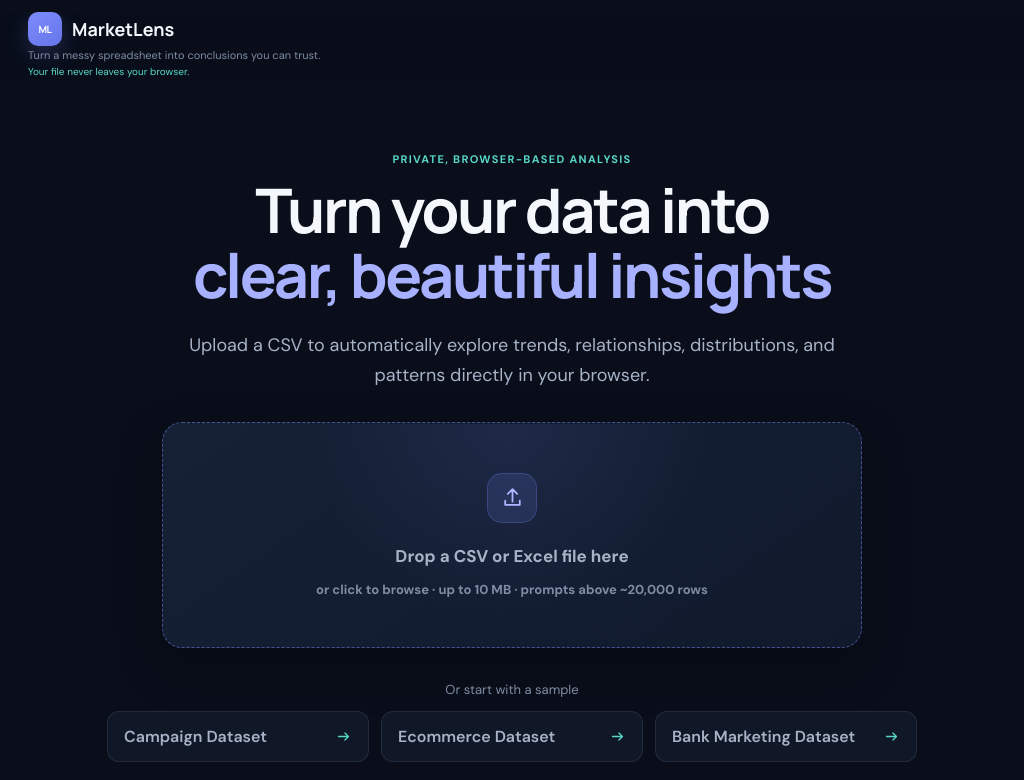
Test: shows the loaded dataset identity and accessible page navigation
Click the button "Ecommerce Dataset". click: (512, 737)
box: [381,711,643,762]
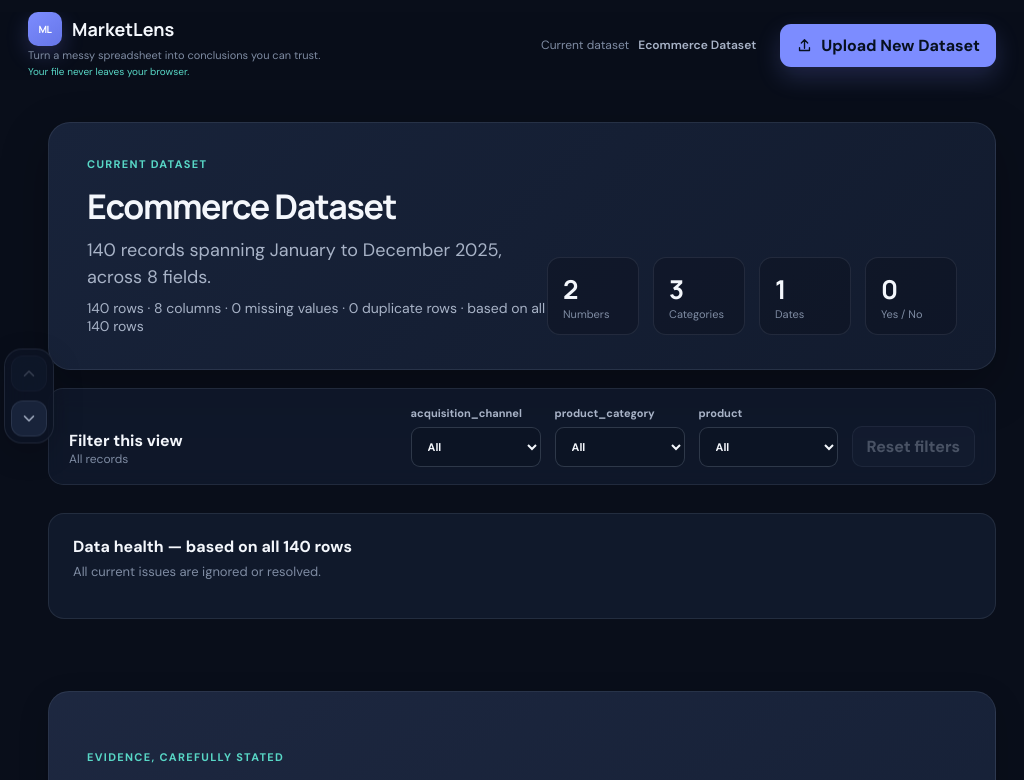
Now the text "Current dataset" is shown 2 times, box [541,37,629,53]; [87,157,207,171]
Now the heading "Ecommerce Dataset" is shown, box [87,183,396,229]
Now the button "Upload New Dataset" is shown
Click the button "Upload New Dataset". click: (888, 45)
box: [780,24,996,67]
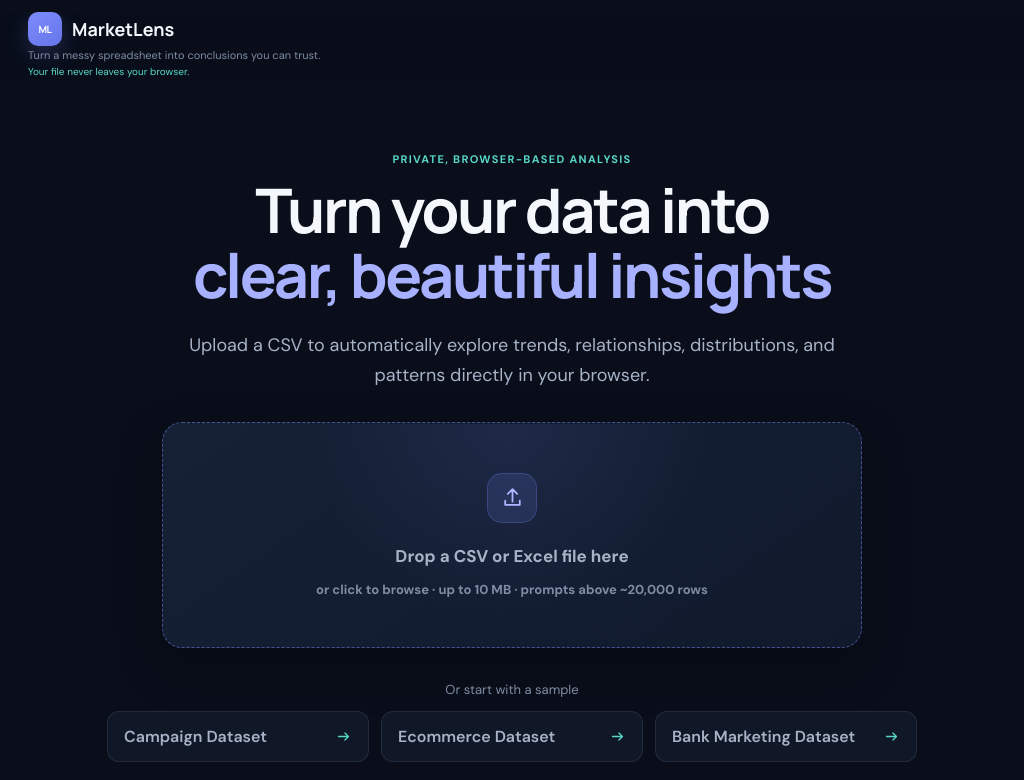
Now the file field named "Upload CSV or Excel" is shown, box [162,422,862,648]
